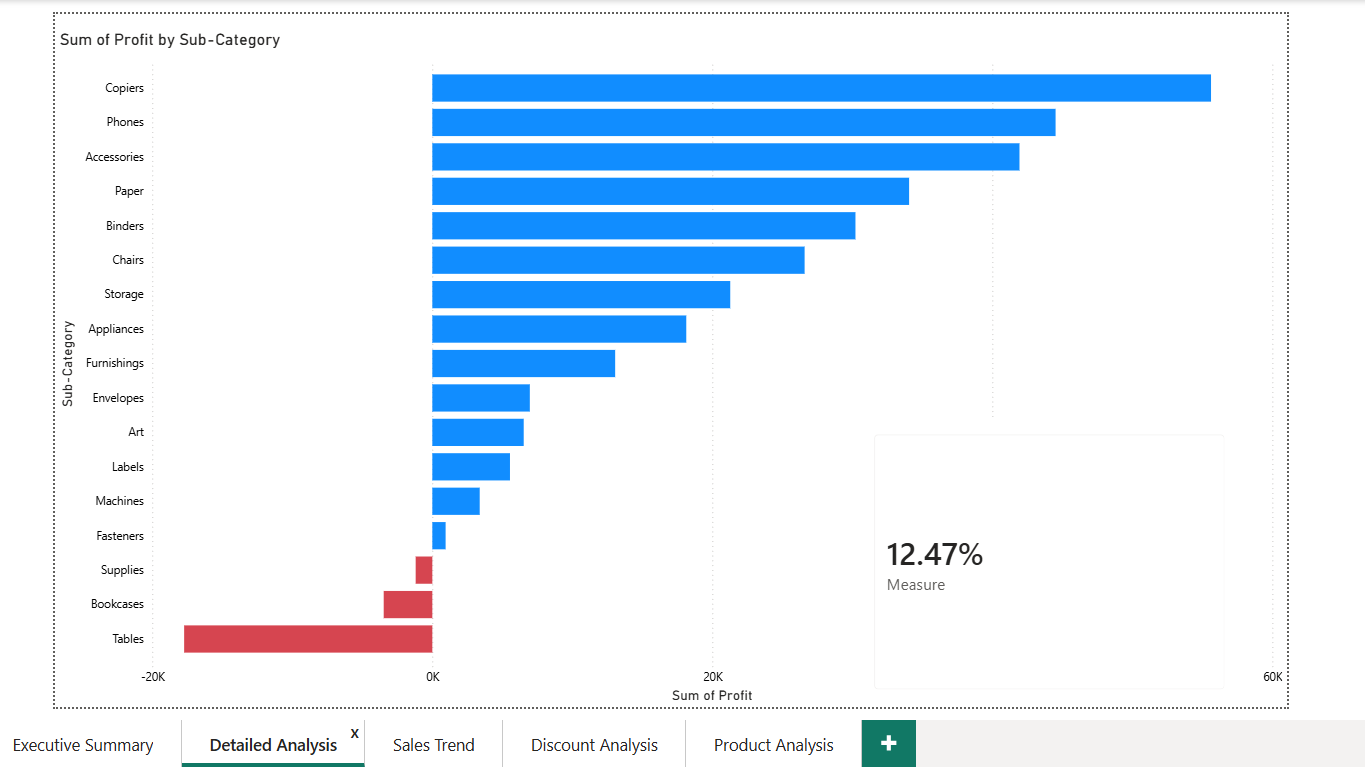

This screenshot's page, from the dashboard's own definition file:
{"tool":"powerbi","page":{"name":"Detailed Analysis","canvas":[1280,720],"ordinal":1},"visuals":[{"type":"barChart","fields":{"Category":["Sample - Superstore.Sub-Category"],"Y":["Sum(Sample - Superstore.Profit)"]},"box":[0,16.1,1279.7,704.3],"z":0},{"type":"cardVisual","fields":{"Data":["Sample - Superstore.Measure"]},"box":[834.9,420.7,398.1,299.8],"z":1000}]}

Visuals, with their boxes on the page's 1280x720 design canvas (x1, y1, x2, y2). These are canvas units, not pixel positions in the 1365x767 screenshot, which may show the page scaled, cropped or inside an application window:
barChart - Sample - Superstore.Sub-Category x Sum(Sample - Superstore.Profit): bbox=(0, 16, 1280, 720)
cardVisual - Sample - Superstore.Measure: bbox=(835, 421, 1233, 720)
